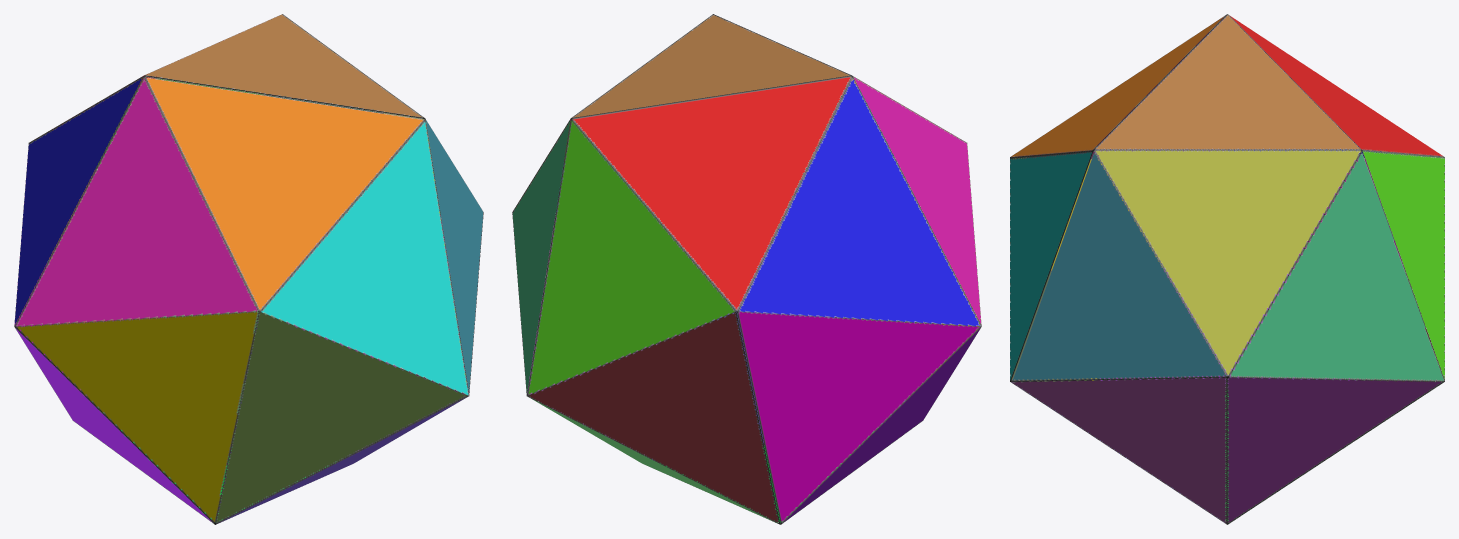
Rendered from iso.obj.
3 renders of one model, left to right at view 1: azimuth 30°, elevation 25°; view 2: azimuth 150°, elevation 25°; view 3: azimuth 270°, elevation 25°, orthographic. The views are drawn at different scales.
Parts seen in each view (by area): view 1: Icosphere; view 2: Icosphere; view 3: Icosphere.
Part boxes in pixels (bbox=[...]): Icosphere: bbox=[14, 14, 483, 524]; Icosphere: bbox=[512, 14, 981, 524]; Icosphere: bbox=[1010, 14, 1444, 524].
Bounding box in the file's own units: 2 × 1.79 × 1.7.
Materials: 1 (1 with a texture image).
